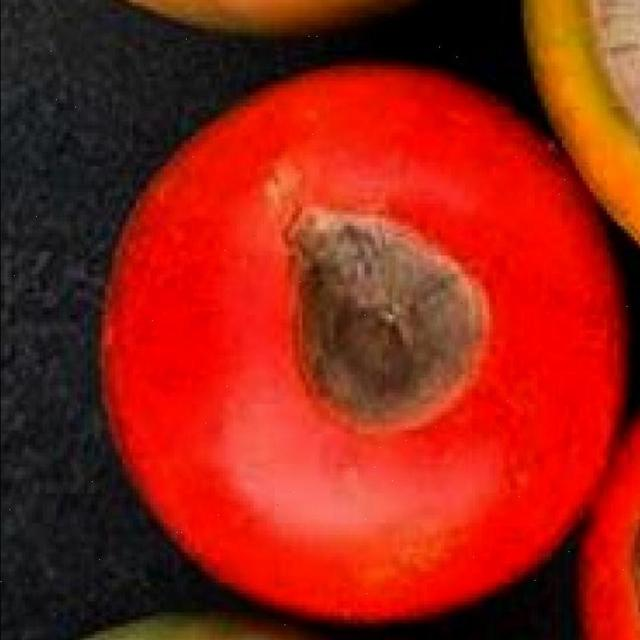Blossom End Rot Fruit: (185, 128, 326, 287)
